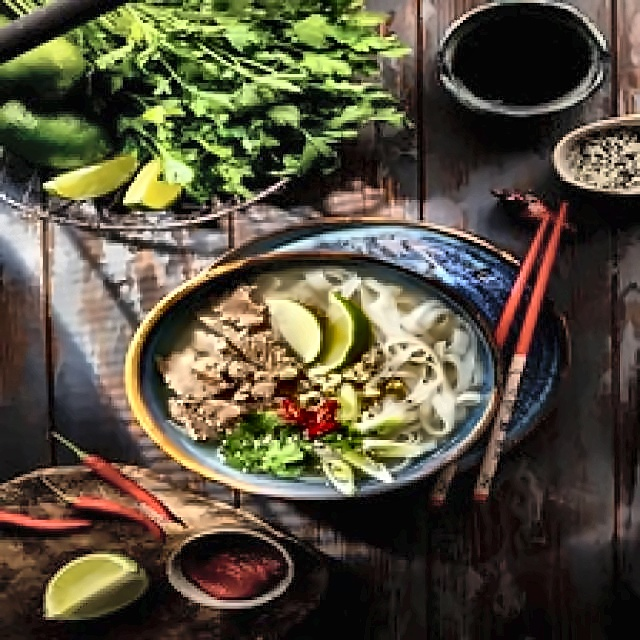lime_wedge: (315, 292, 371, 371), (43, 155, 139, 199), (266, 298, 322, 365), (123, 158, 182, 211), (338, 383, 360, 425)
noodle: (327, 270, 484, 439)
